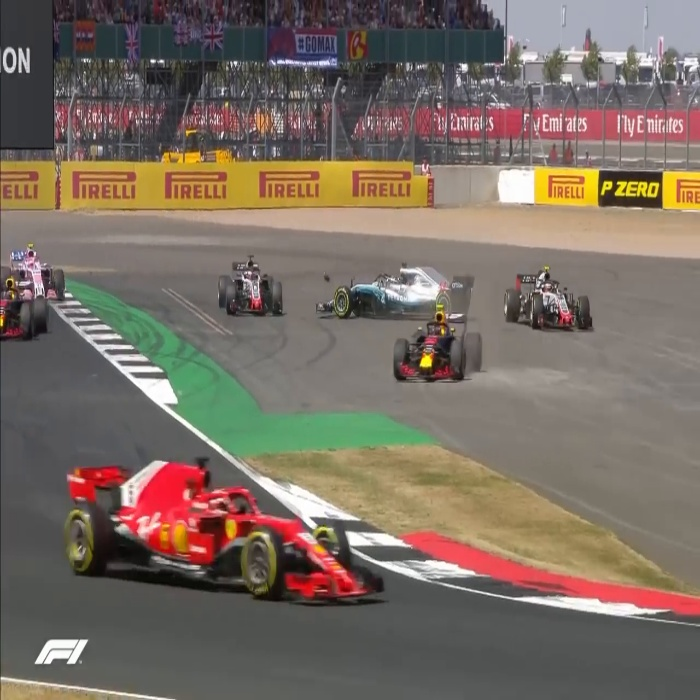f1_car: (50, 450, 395, 632), (308, 254, 474, 315), (378, 304, 493, 392), (502, 262, 597, 338), (196, 253, 289, 325)
